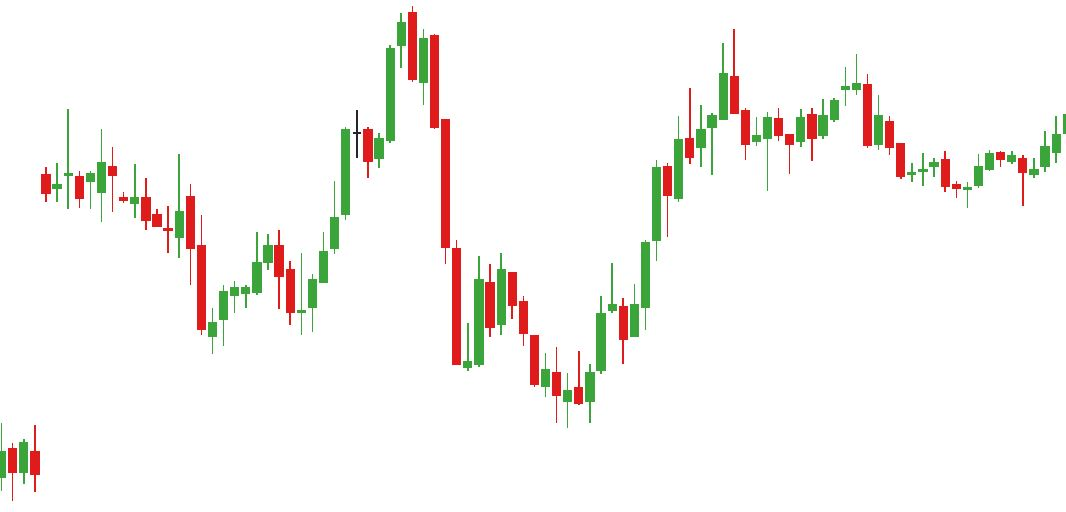sell: (130, 137, 195, 258)
